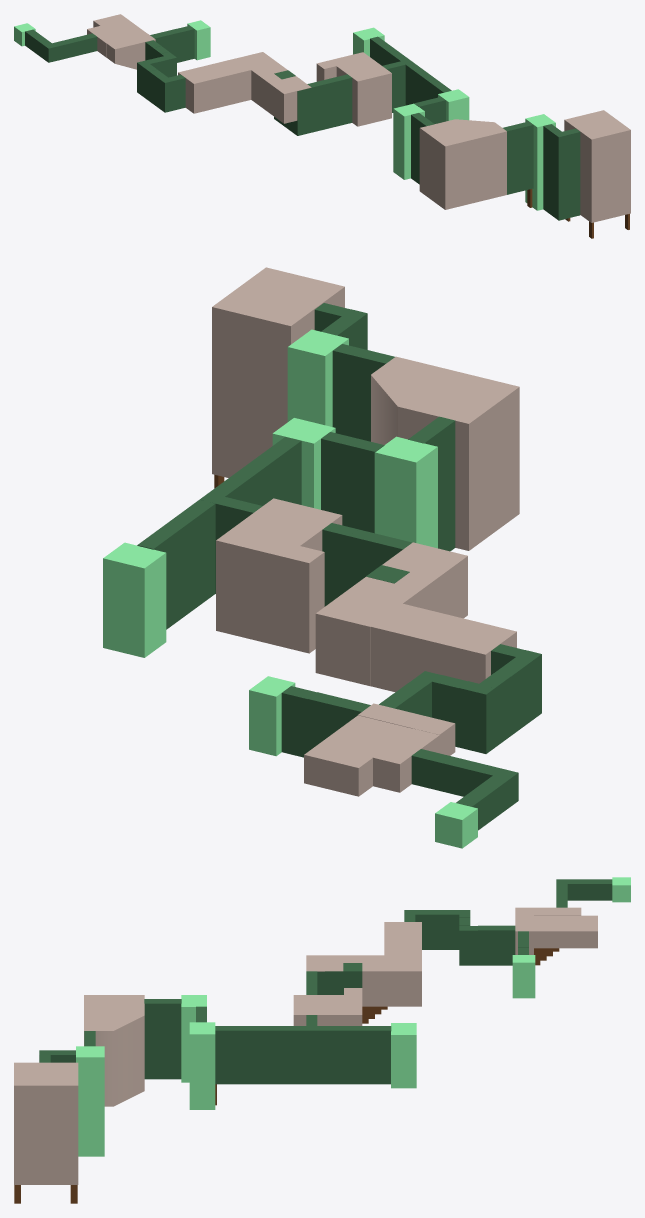
Rendered from jungle.fbx.
3 views of the same model, one above another, from view 1: azimuth 30°, elevation 25°; view 2: azimuth 150°, elevation 25°; view 3: azimuth 270°, elevation 25° (orthographic). The views are drawn at different scales.
Parts seen in each view (by area): view 1: pCube82; view 2: pCube82; view 3: pCube82.
Part boxes in pixels (bbox=[...]): pCube82: bbox=[14, 14, 630, 238]; pCube82: bbox=[103, 267, 541, 848]; pCube82: bbox=[14, 877, 630, 1203].
Bounding box in the file's own units: 129 × 34.74 × 163.
